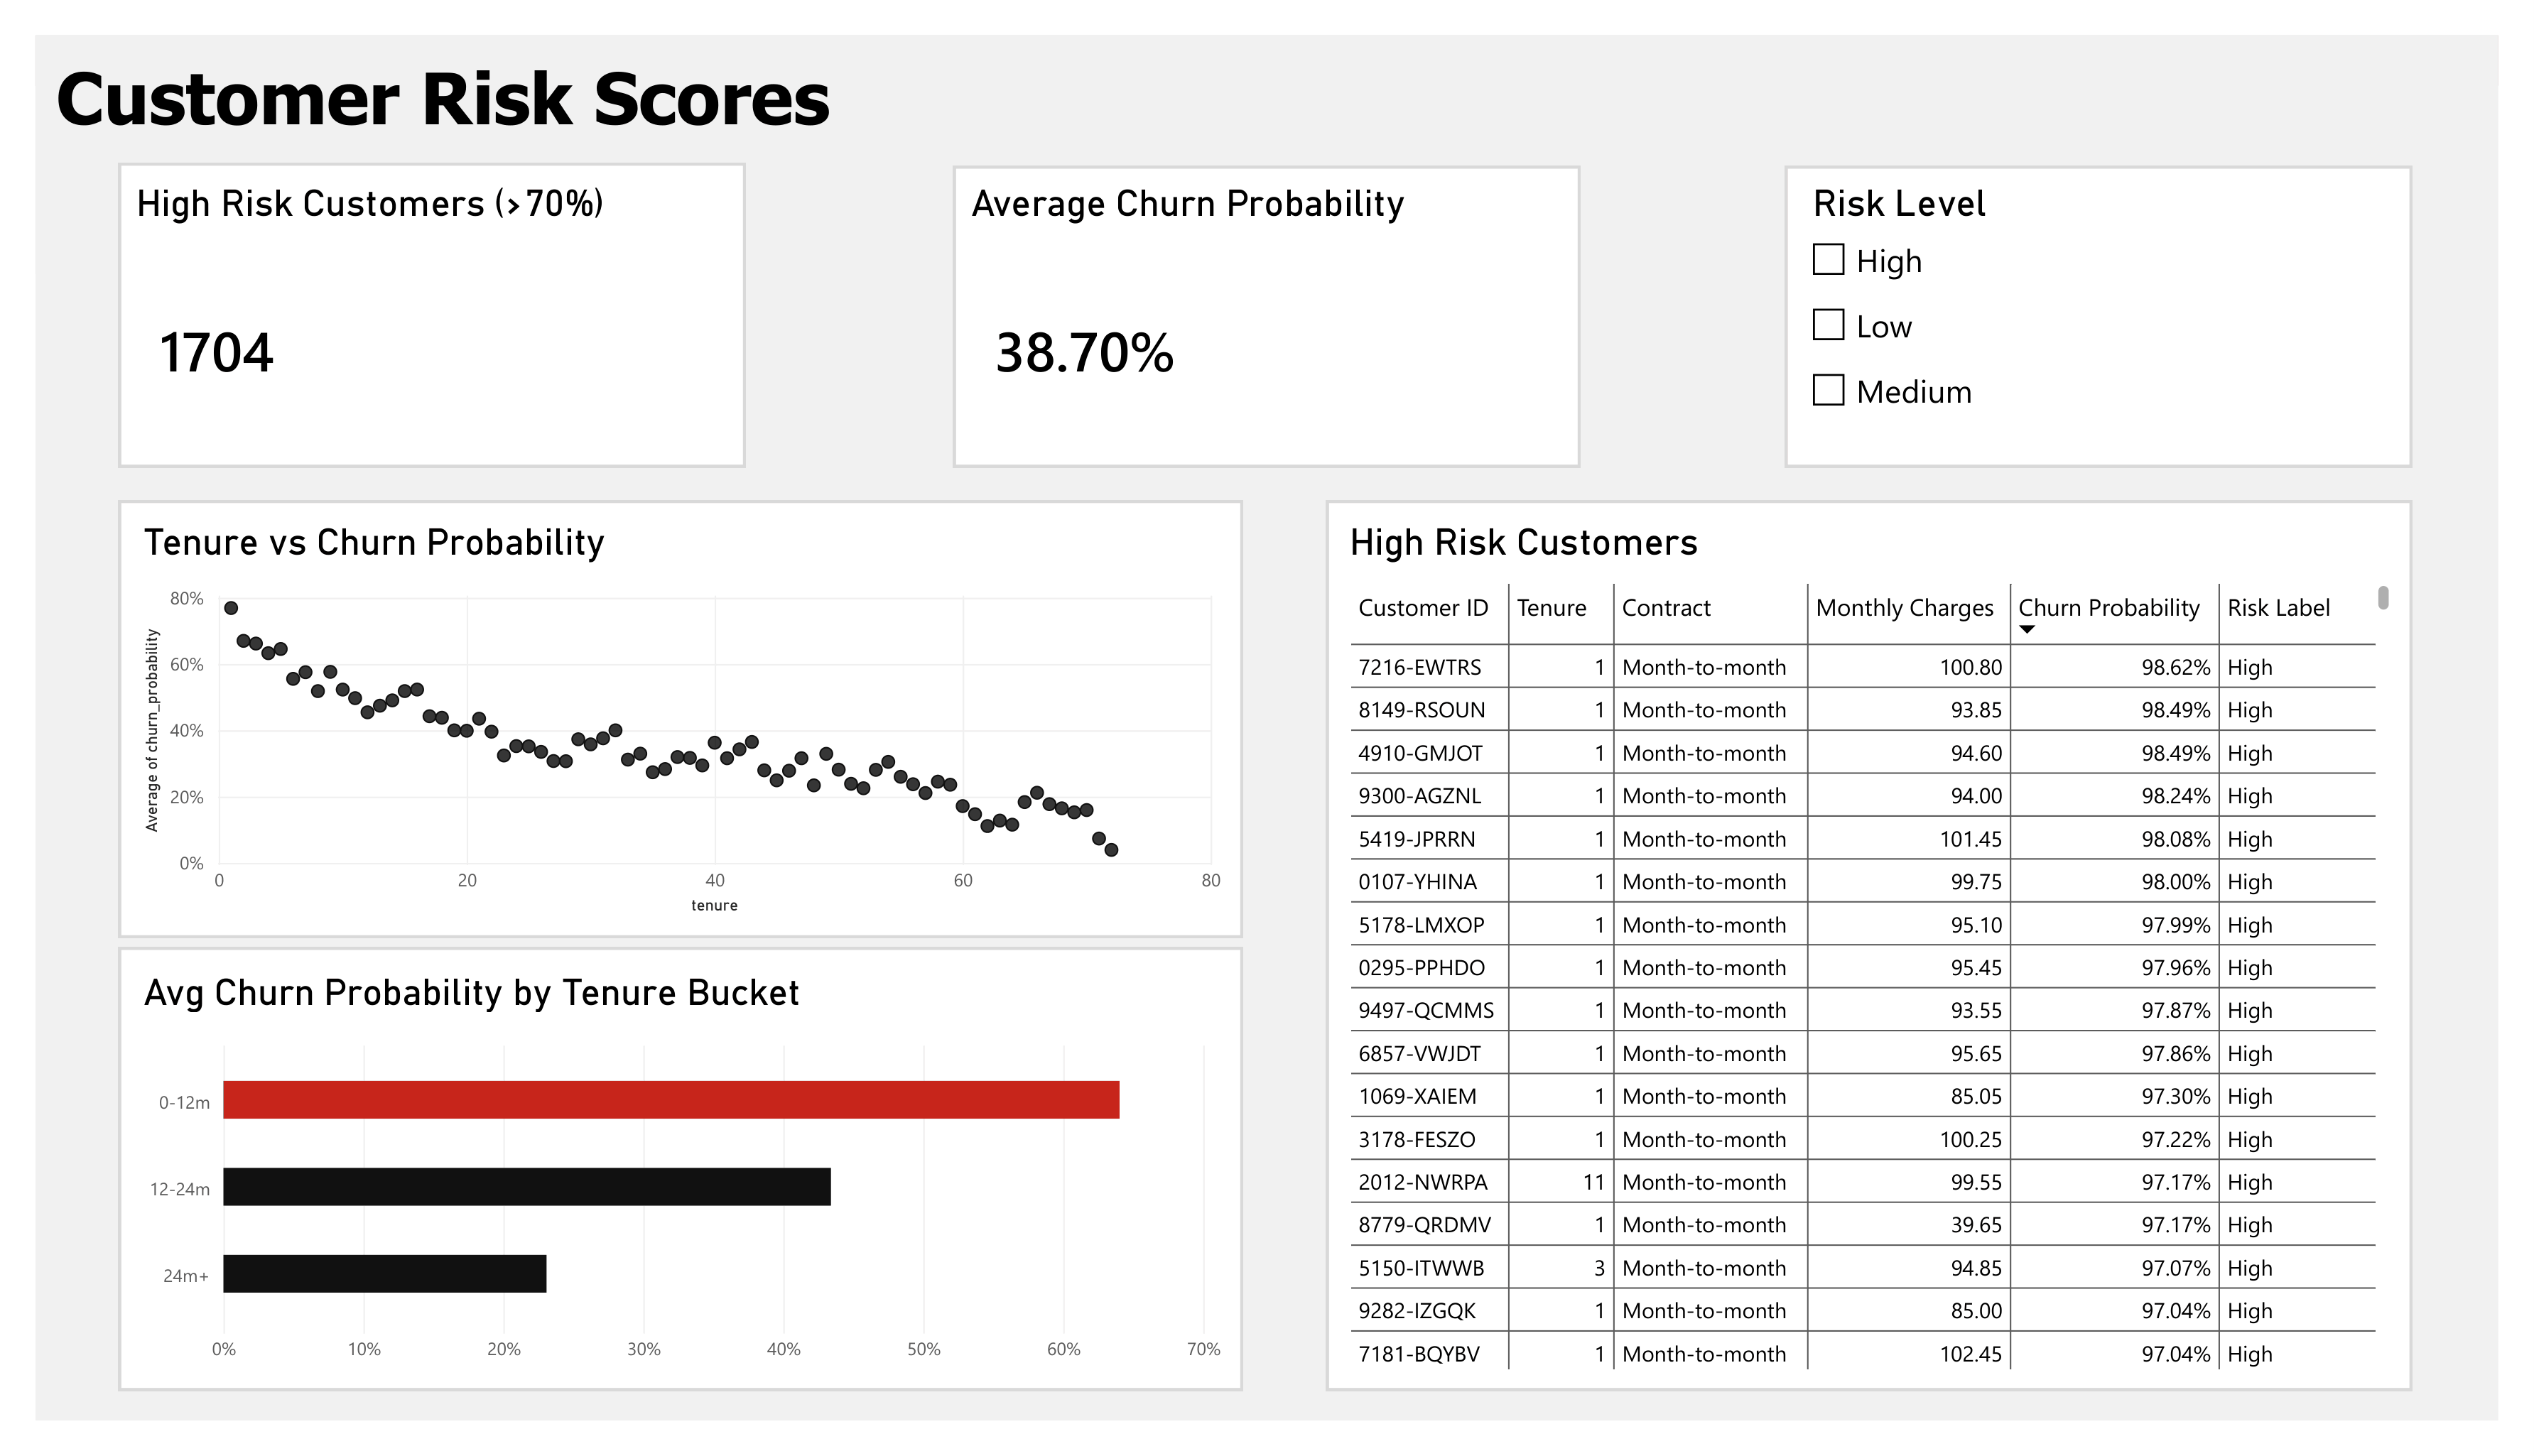

The page's visual inventory and layout, read from the dashboard file:
{"tool":"powerbi","page":{"name":"Customer Risk Scores","canvas":[1664,936],"ordinal":2},"visuals":[{"type":"shape","box":[56,86,424,206],"z":0},{"type":"shape","box":[620,88,424,204],"z":1000},{"type":"shape","box":[1182,88,424,204],"z":2000},{"type":"shape","box":[872,314,734,602],"z":3000},{"type":"shape","box":[56,314,760,296],"z":4000},{"type":"shape","box":[56,616,760,300],"z":5000},{"type":"slicer","fields":{"Values":["telco_with_predictions.Risk Label"]},"box":[1193.3,98.3,398,183],"z":6000},{"type":"cardVisual","title":"High Risk Customers (>70%)","fields":{"Data":["CountNonNull(telco_with_predictions.churn_probability)"]},"box":[68.3,98.3,398,183],"z":7000},{"type":"cardVisual","title":"Average Churn Probability","fields":{"Data":["Avg(telco_with_predictions.churn_probability)"]},"box":[631.7,98.3,398.3,183.3],"z":8000},{"type":"scatterChart","title":"Tenure vs Churn Probability","fields":{"X":["telco_with_predictions.tenure"],"Y":["Avg(telco_with_predictions.churn_probability)"]},"box":[56.7,313.3,760,296.7],"z":9000},{"type":"tableEx","title":"High Risk Customers","fields":{"Values":["telco_with_predictions.customerID","telco_with_predictions.tenure","telco_with_predictions.Contract","telco_with_predictions.MonthlyCharges","telco_with_predictions.churn_probability","telco_with_predictions.Risk Label"]},"box":[871.7,313.3,735,603.3],"z":10000},{"type":"barChart","title":"Avg Churn Probability by Tenure Bucket","fields":{"Category":["telco_with_predictions.tenure_bucket"],"Y":["Avg(telco_with_predictions.churn_probability)"]},"box":[56.7,616.7,760,300],"z":11000},{"type":"textbox","box":[14,12,546,64],"z":12000}]}

Visuals, with their boxes on the page's 1664x936 design canvas (x1, y1, x2, y2). These are canvas units, not pixel positions in the 2534x1456 screenshot, which may show the page scaled, cropped or inside an application window:
shape: (left=56, top=86, right=480, bottom=292)
shape: (left=620, top=88, right=1044, bottom=292)
shape: (left=1182, top=88, right=1606, bottom=292)
shape: (left=872, top=314, right=1606, bottom=916)
shape: (left=56, top=314, right=816, bottom=610)
shape: (left=56, top=616, right=816, bottom=916)
slicer - telco_with_predictions.Risk Label: (left=1193, top=98, right=1591, bottom=281)
"High Risk Customers (>70%)" cardVisual: (left=68, top=98, right=466, bottom=281)
"Average Churn Probability" cardVisual: (left=632, top=98, right=1030, bottom=282)
"Tenure vs Churn Probability" scatterChart: (left=57, top=313, right=817, bottom=610)
"High Risk Customers" tableEx: (left=872, top=313, right=1607, bottom=917)
"Avg Churn Probability by Tenure Bucket" barChart: (left=57, top=617, right=817, bottom=917)
textbox: (left=14, top=12, right=560, bottom=76)
